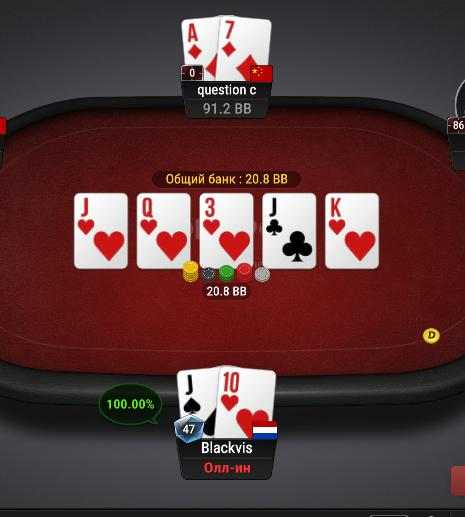10h: (217, 366, 278, 441)
3h: (201, 194, 254, 266)
7d: (219, 13, 272, 82)
Ad: (181, 17, 218, 82)
Jc: (264, 194, 317, 271)
Jh: (74, 194, 128, 269)
Js: (179, 369, 218, 439)
Kh: (326, 195, 377, 265)
Qh: (136, 194, 190, 267)
